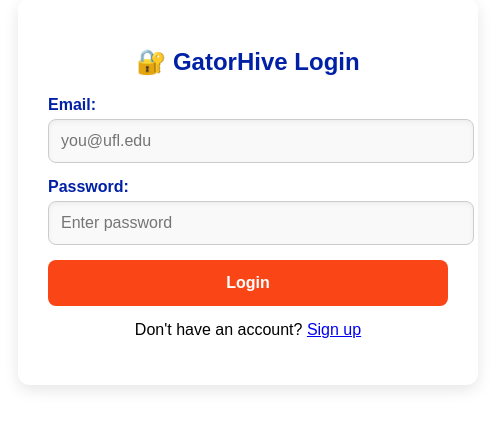
Test: Login Component › logs in successfully with correct credentials
The image size is (497, 443).
Type "user@gatorhive.com" into the field labelled "Email:". click: [261, 141]
box: [48, 119, 474, 163]
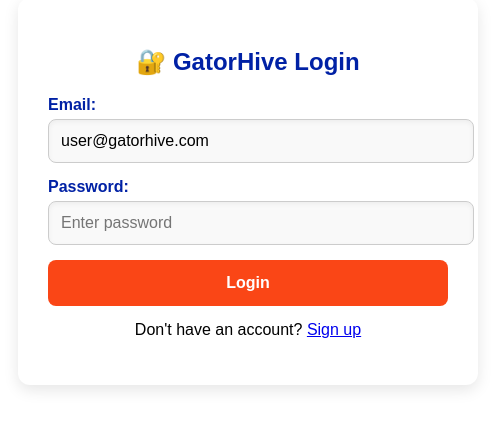
Type "password123" into the password field labelled "Password:". click: [261, 223]
box: [48, 201, 474, 245]
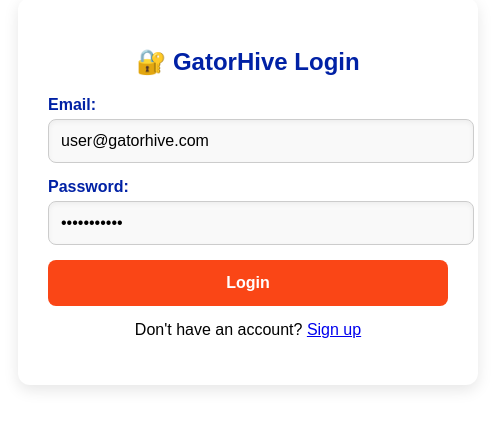
Click the button "Login". click: [248, 283]
box: [48, 260, 448, 306]
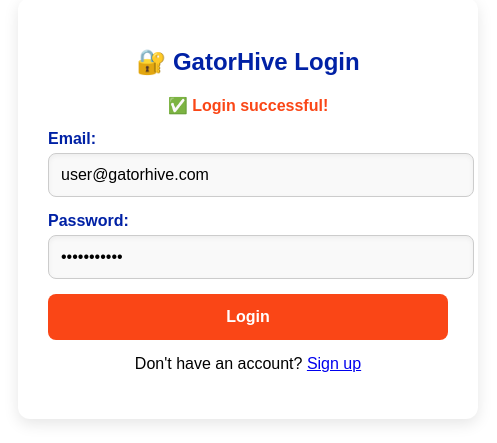
Now the text "✅ Login successful!" is shown, box [168, 97, 328, 114]
